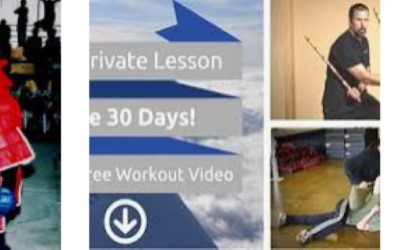baston_e: (306, 34, 345, 92)
baston_v: (369, 3, 379, 16), (301, 30, 309, 43), (357, 94, 363, 107)
